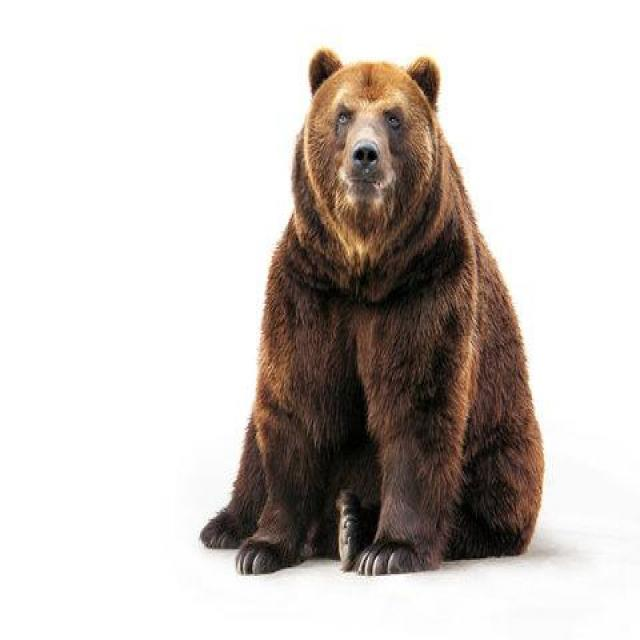Bear: (200, 48, 547, 578)
